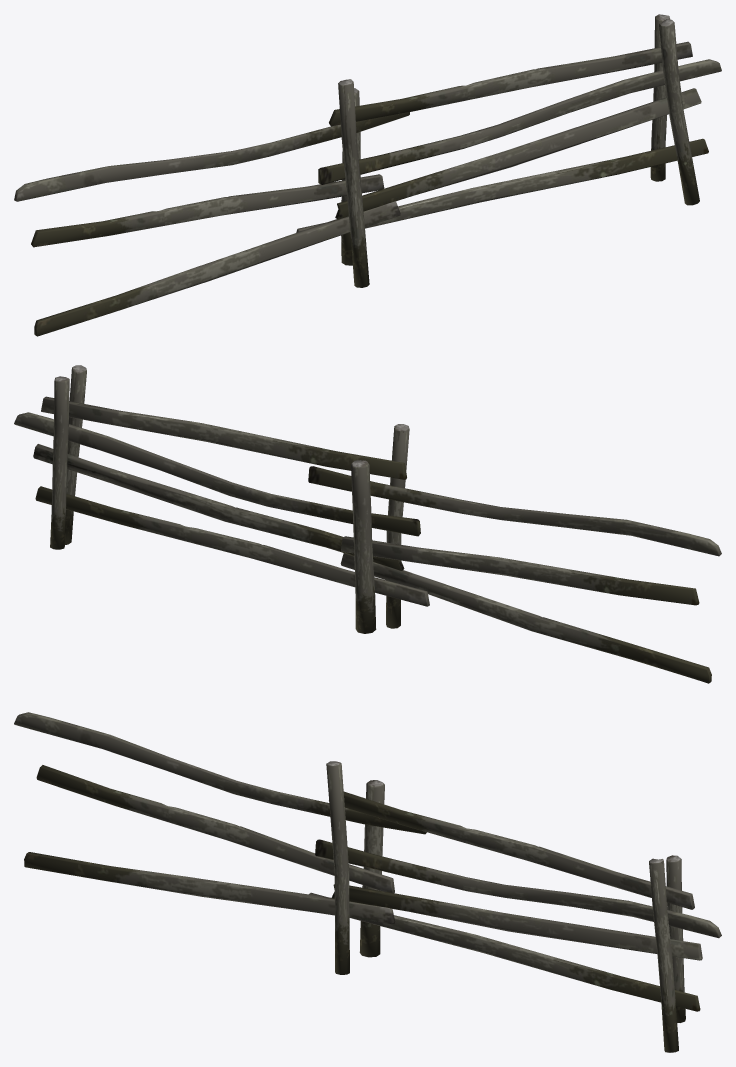
The model's file is Stage_Obj010.fbx.
3 renders of one model, top to bottom at view 1: azimuth 30°, elevation 25°; view 2: azimuth 150°, elevation 25°; view 3: azimuth 330°, elevation 25°, orthographic.
Visible parts, largest first — view 1: SM_SampleGame_Fence002; view 2: SM_SampleGame_Fence002; view 3: SM_SampleGame_Fence002.
Boxes of the visible parts, x1,y1,x2,y2 form: SM_SampleGame_Fence002: (14,14,721,336); SM_SampleGame_Fence002: (14,365,721,683); SM_SampleGame_Fence002: (14,712,721,1052).
Size of the model in its own units: 590 by 163 by 45.43.
1 material, 1 textured.
